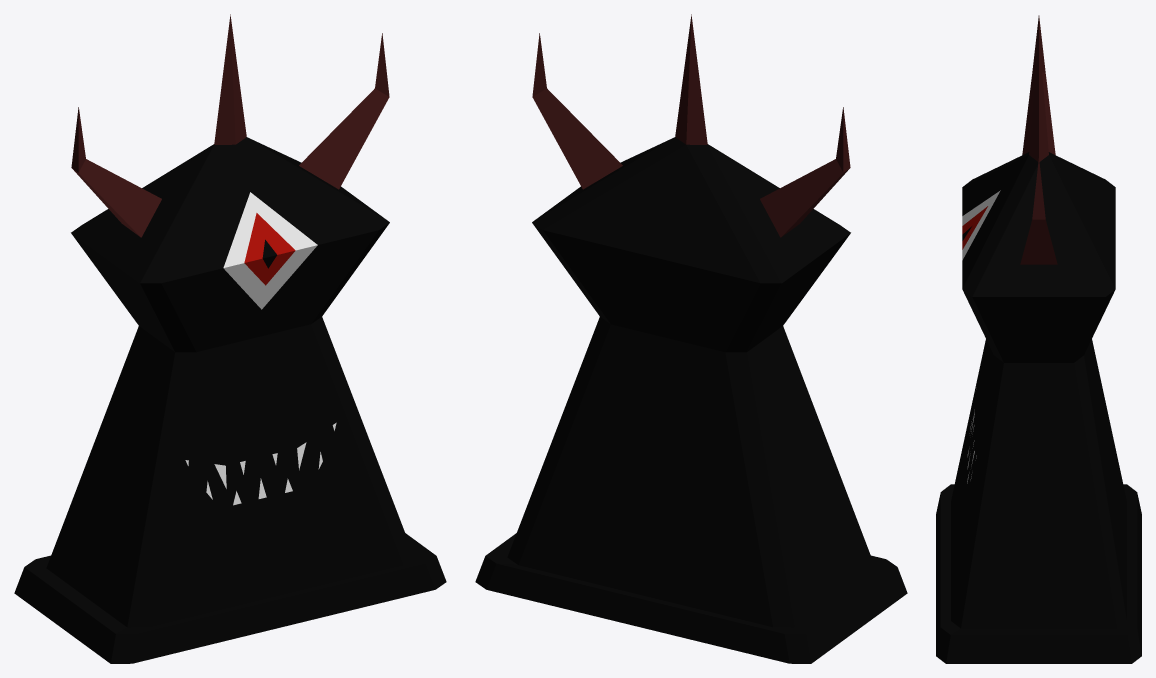
Rendered from FichaDemonioEnemigo.fbx.
3 views of the same model, side by side, from view 1: azimuth 30°, elevation 25°; view 2: azimuth 150°, elevation 25°; view 3: azimuth 270°, elevation 25° (orthographic). The views are drawn at different scales.
Visible parts, largest first — view 1: DEnemigo.001; view 2: DEnemigo.001; view 3: DEnemigo.001.
Boxes of the visible parts, left/top/right/bottom form: DEnemigo.001: left=14, top=14, right=446, bottom=663; DEnemigo.001: left=475, top=14, right=907, bottom=663; DEnemigo.001: left=936, top=15, right=1141, bottom=663.
Size of the model in its own units: 26.45 by 43.16 by 14.57.
